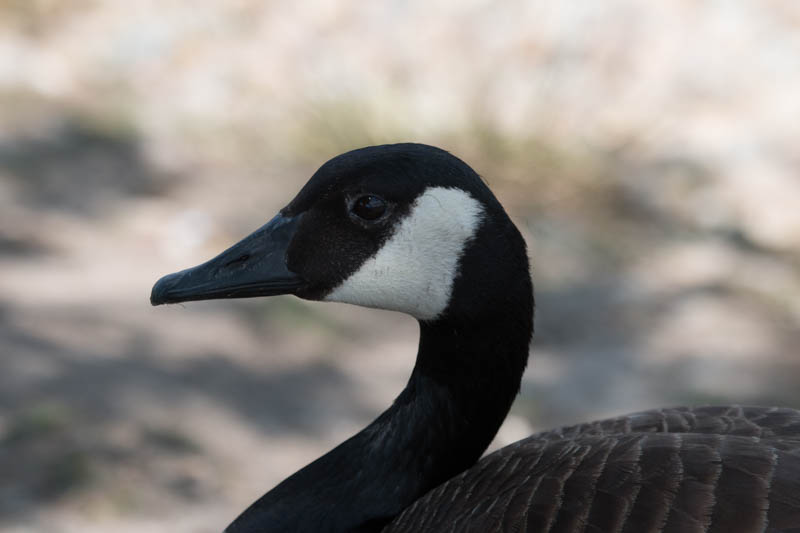goose-head: (151, 144, 530, 323)
